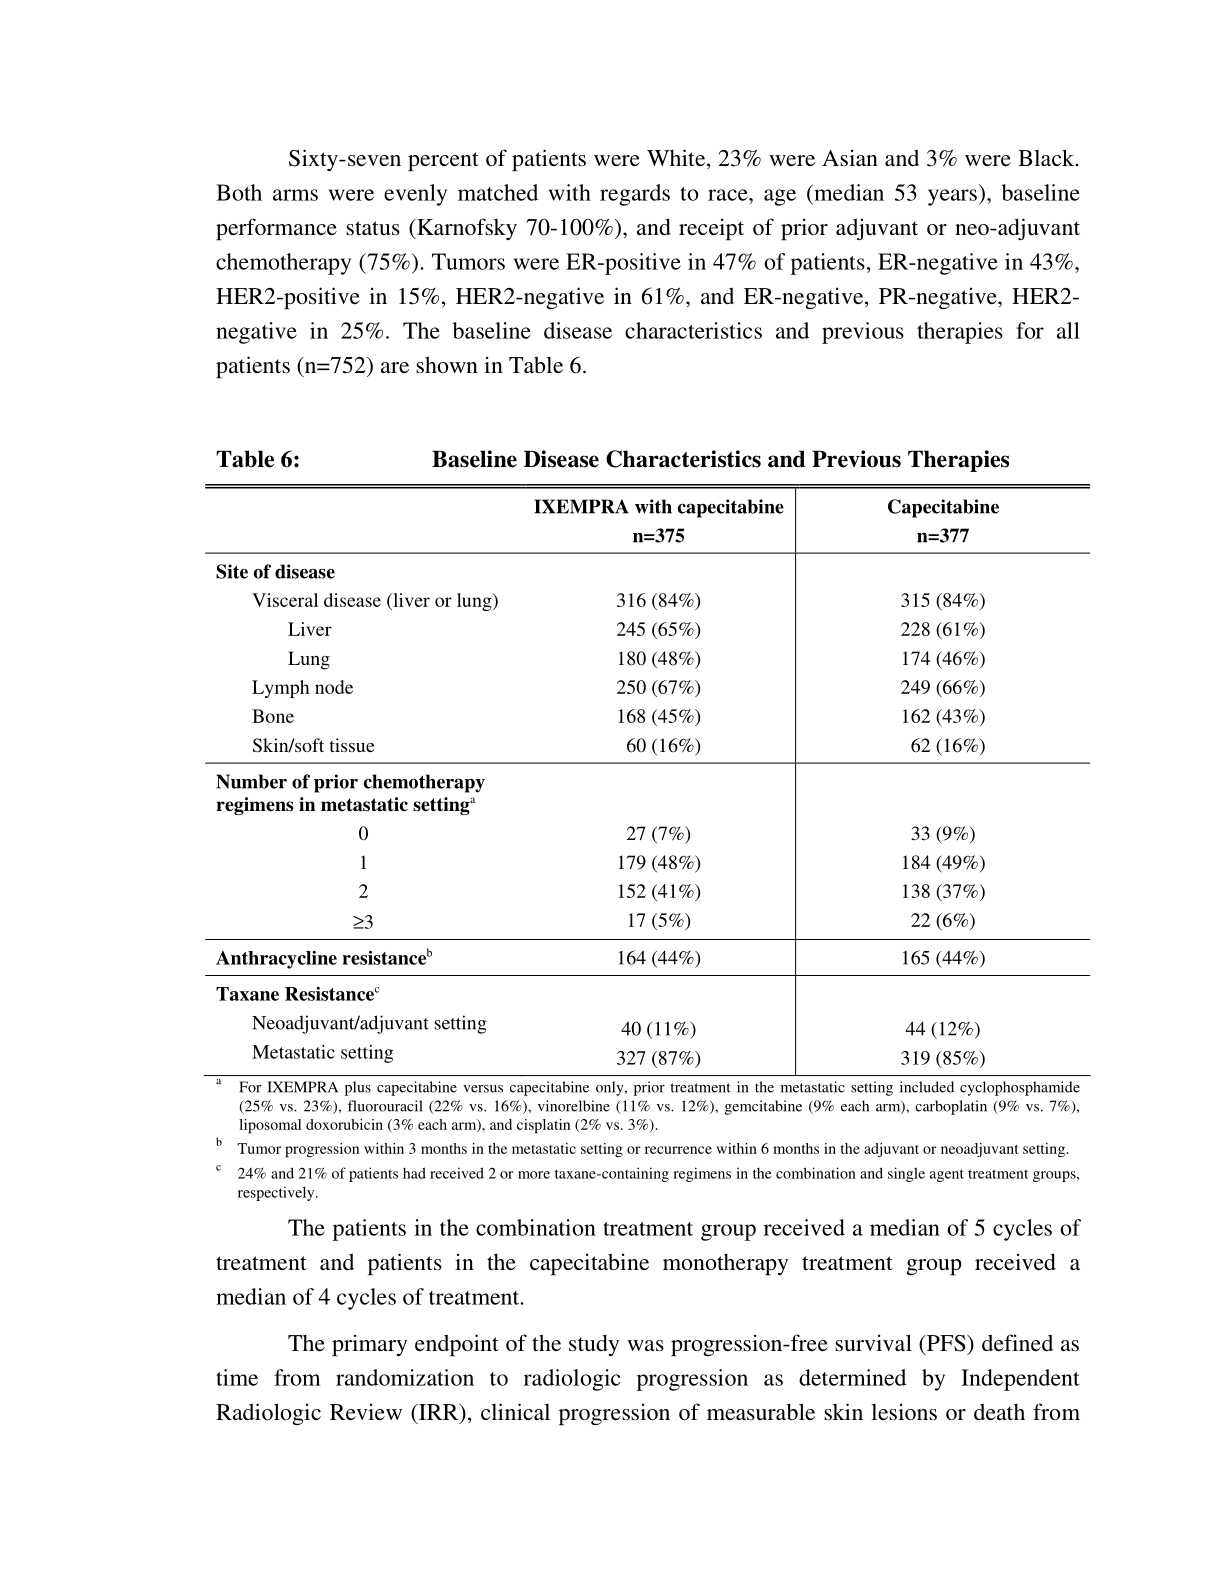partial_lined: (204, 482, 1092, 1077)
